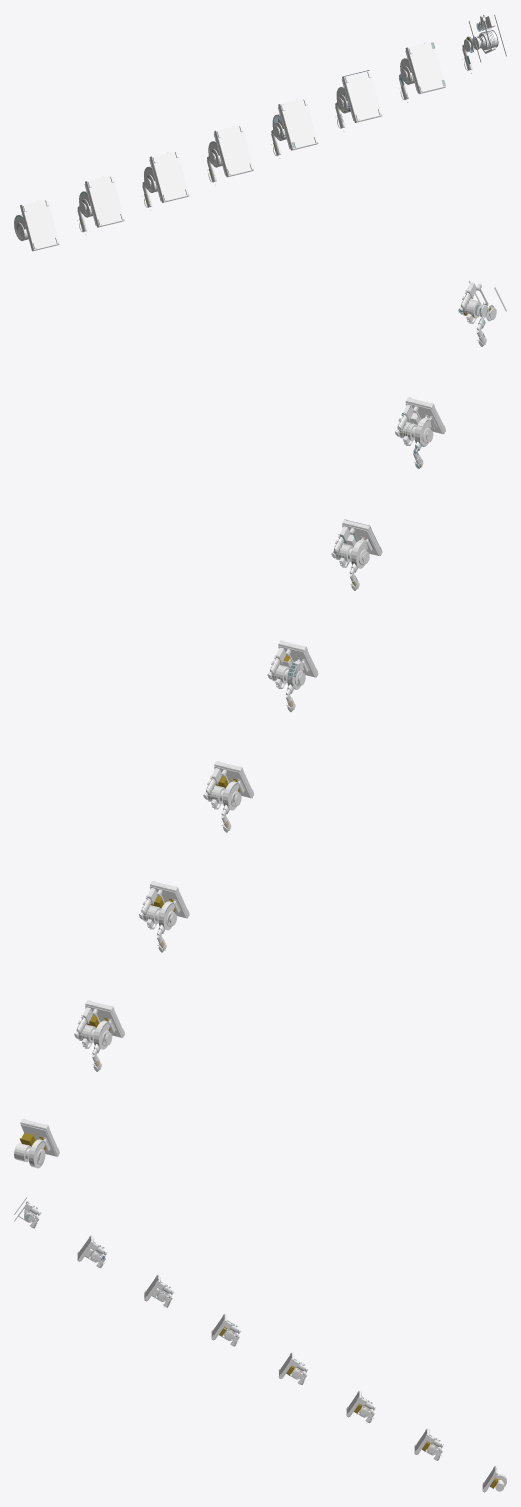
File: xuanshu_interior_C31.glb
The picture shows the model from 3 angles, top to bottom: view 1: azimuth 30°, elevation 25°; view 2: azimuth 150°, elevation 25°; view 3: azimuth 270°, elevation 25°; orthographic projection. The views are drawn at different scales.
Parts seen in each view (by area): view 1: UNIT-MED-003_S99614_S0; view 2: UNIT-MED-003_S99614_S0; view 3: UNIT-MED-003_S99614_S0.
Part boxes in pixels (bbox=[...]): UNIT-MED-003_S99614_S0: bbox=[14, 14, 506, 251]; UNIT-MED-003_S99614_S0: bbox=[14, 280, 506, 1168]; UNIT-MED-003_S99614_S0: bbox=[14, 1197, 506, 1492].
Bounding box in the file's own units: 0.276 × 5.2 × 8.04.
